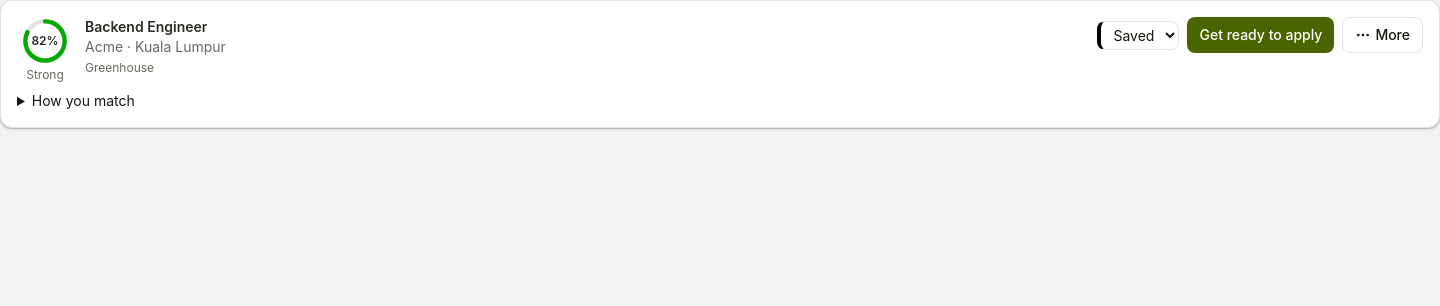
a job card › offers Get ready to apply once it is checked, and Check again moves under More
This screenshot has width=1440, height=306.
Expected: the picture named "82% match, Strong" is shown, [21,17,69,65]
Step 1. Click the button with aria-label "More actions" → (1383,35), box [1342,17,1423,53]
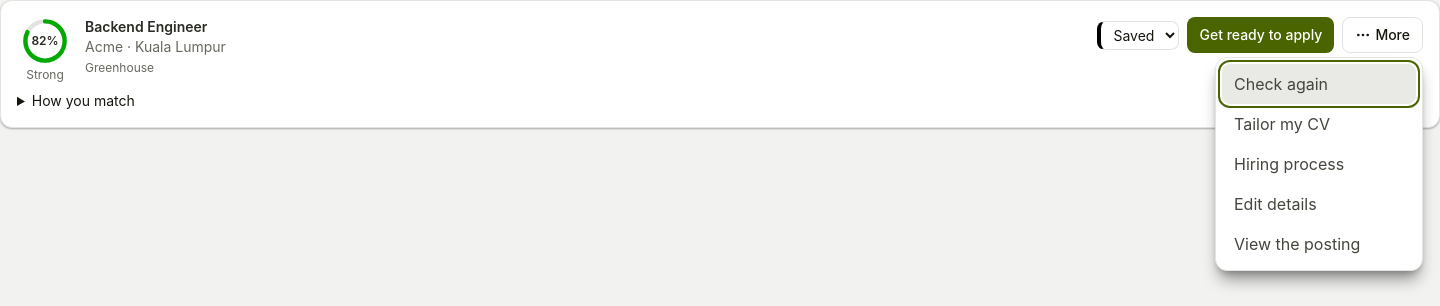
Result: the menu item "Check again" is shown at [1222,64,1416,104]
